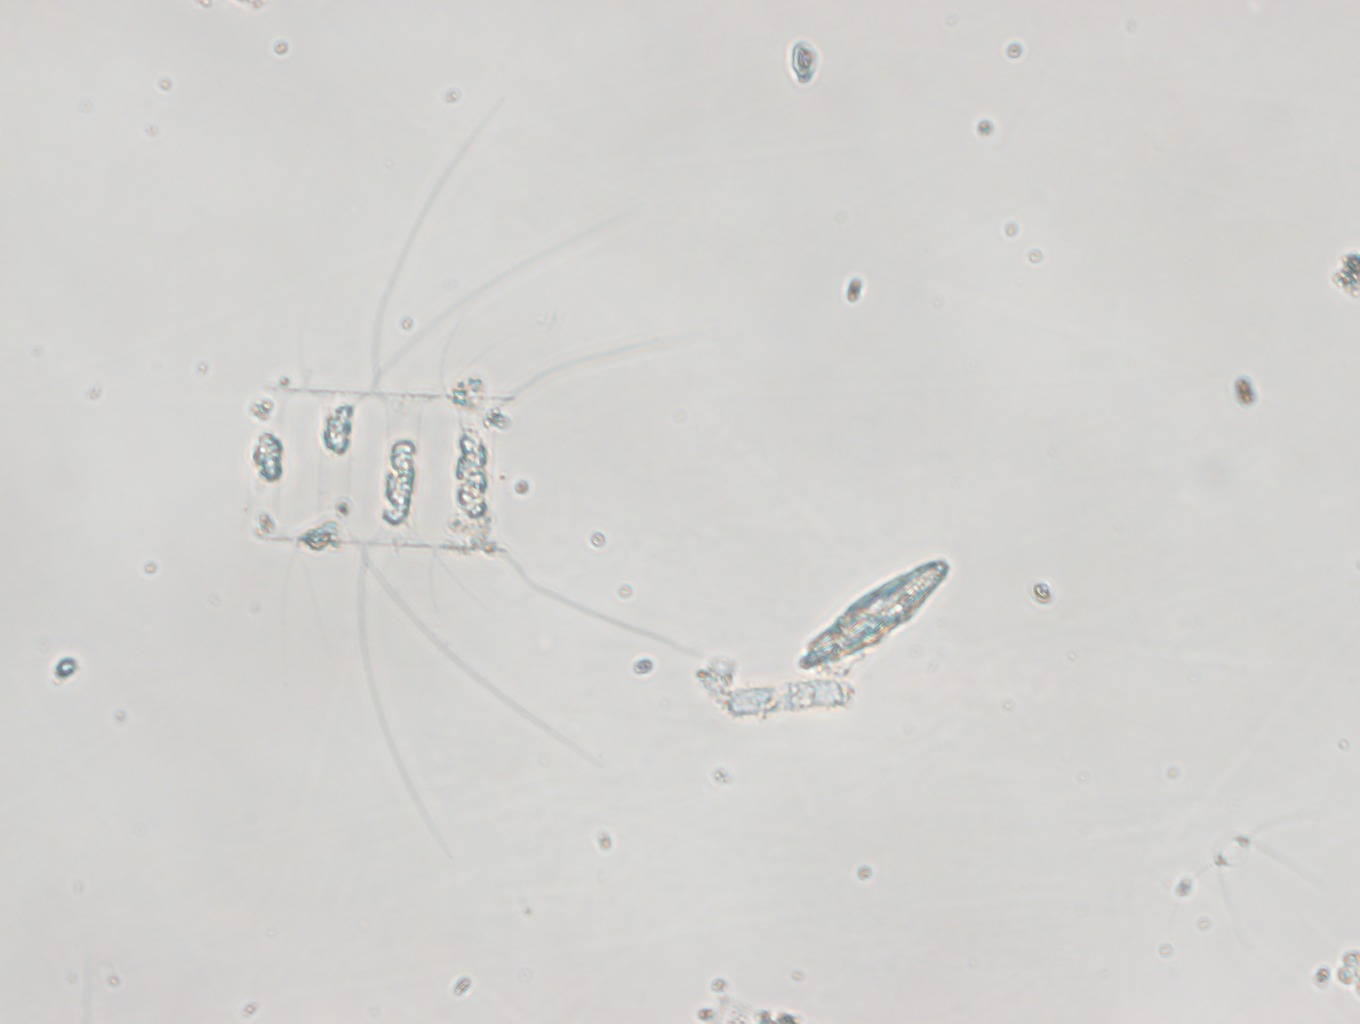chaetoceros: (234, 89, 744, 854)
